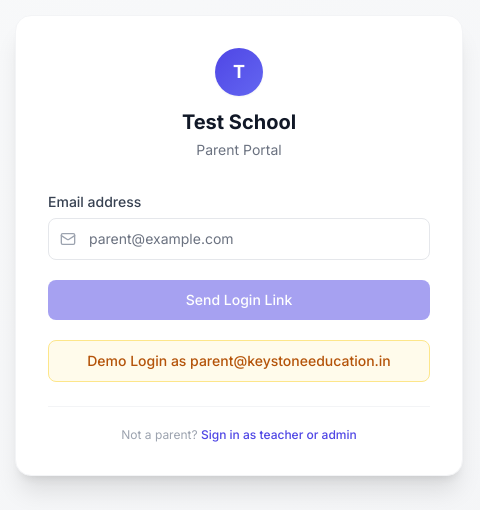
Test: ParentLoginPage › button disabled state › send login link button is enabled when email is typed
Type "a@b.com" into the field labelled "Email address".
click(239, 238); type("a@b.com")  # box [48,218,430,260]
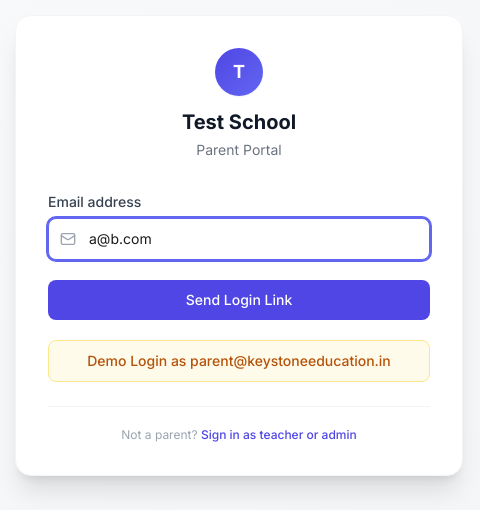
Now the button "Send Login Link" is enabled, box [48,280,430,320]
